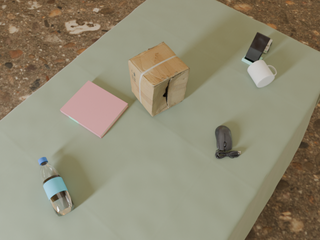book: (60, 81, 128, 138)
bottle: (38, 157, 74, 216)
box: (128, 42, 190, 116)
cup: (248, 60, 276, 87)
mouse: (215, 126, 241, 159)
phone: (245, 32, 270, 63)
toy_car: (264, 39, 272, 53)
